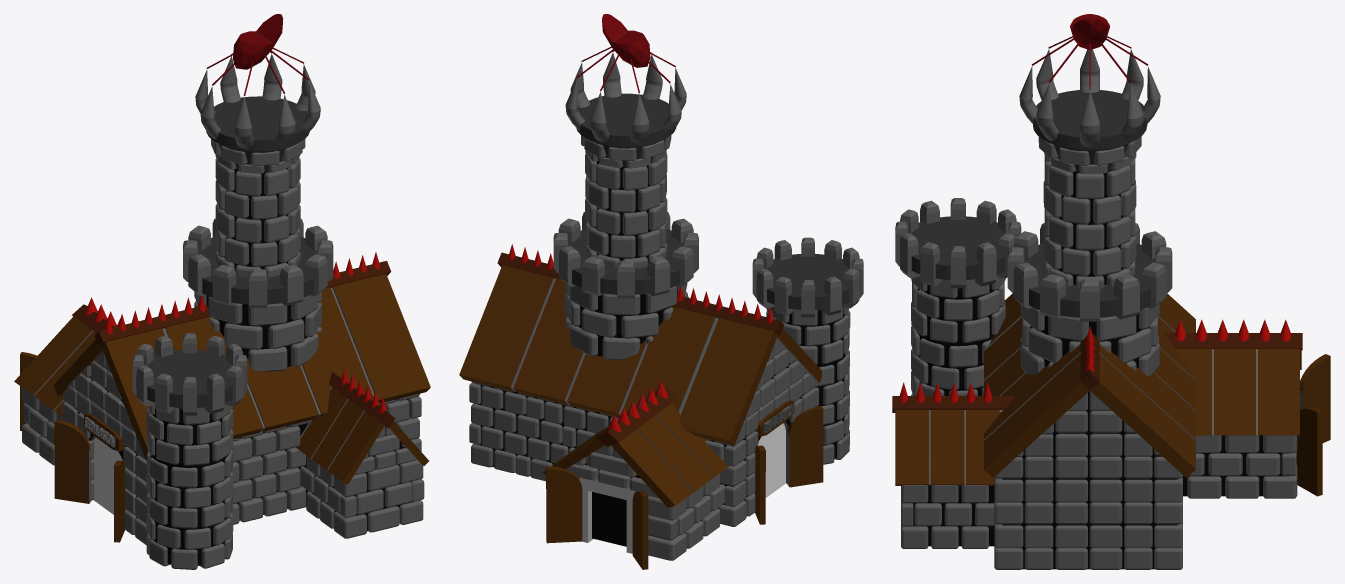
File: baseMP2.fbx
3 renders of one model, left to right at view 1: azimuth 30°, elevation 25°; view 2: azimuth 150°, elevation 25°; view 3: azimuth 270°, elevation 25°, orthographic. The views are drawn at different scales.
Visible parts, largest first — view 1: Cube.221; view 2: Cube.221; view 3: Cube.221.
Boxes of the visible parts, left/top/right/bottom form: Cube.221: left=14, top=14, right=430, bottom=569; Cube.221: left=459, top=14, right=863, bottom=569; Cube.221: left=892, top=14, right=1330, bottom=569.
Bounding box in the file's own units: 5778 × 8242 × 6519.
